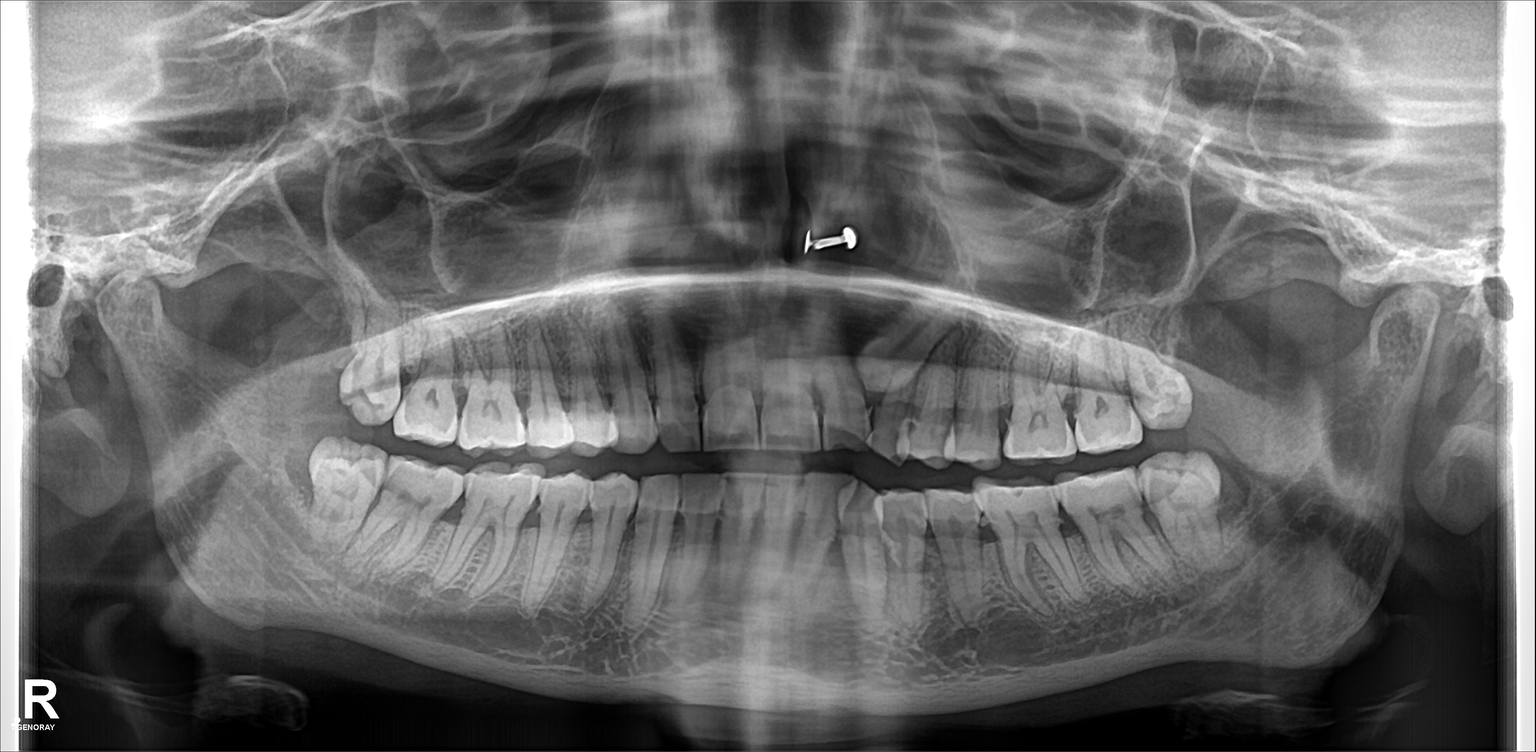Impacted Third Molar: (305, 441, 380, 553)
